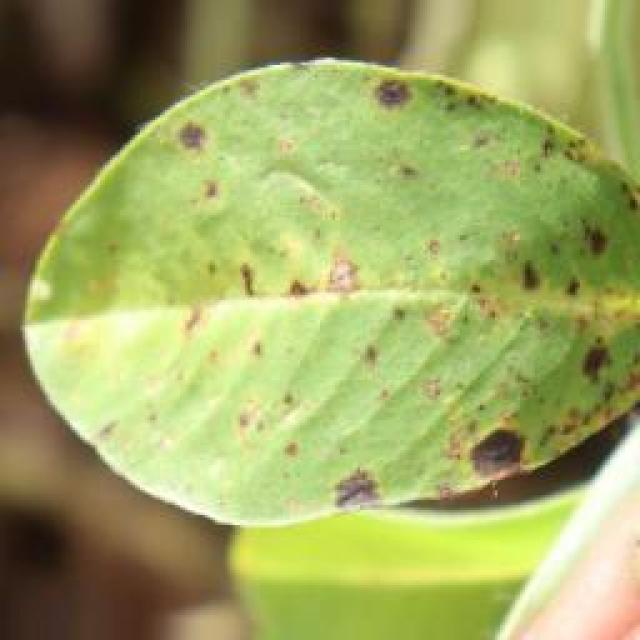Yellowish: (124, 87, 610, 538)
